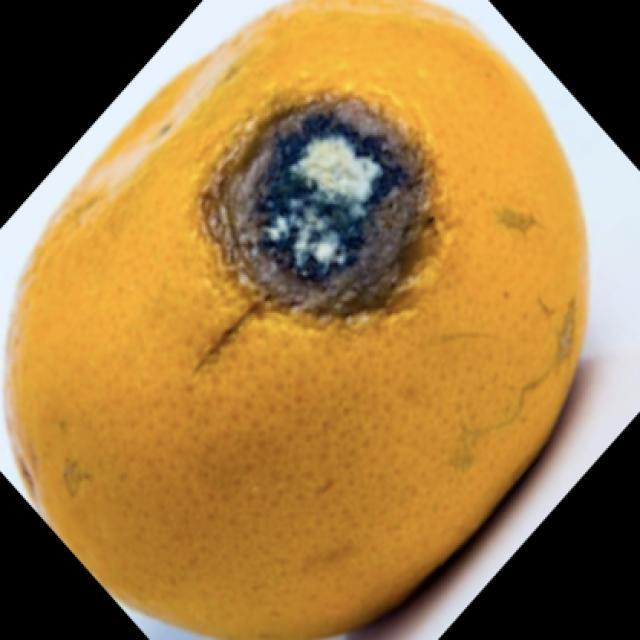sedikit-busuk: (9, 0, 584, 639)
